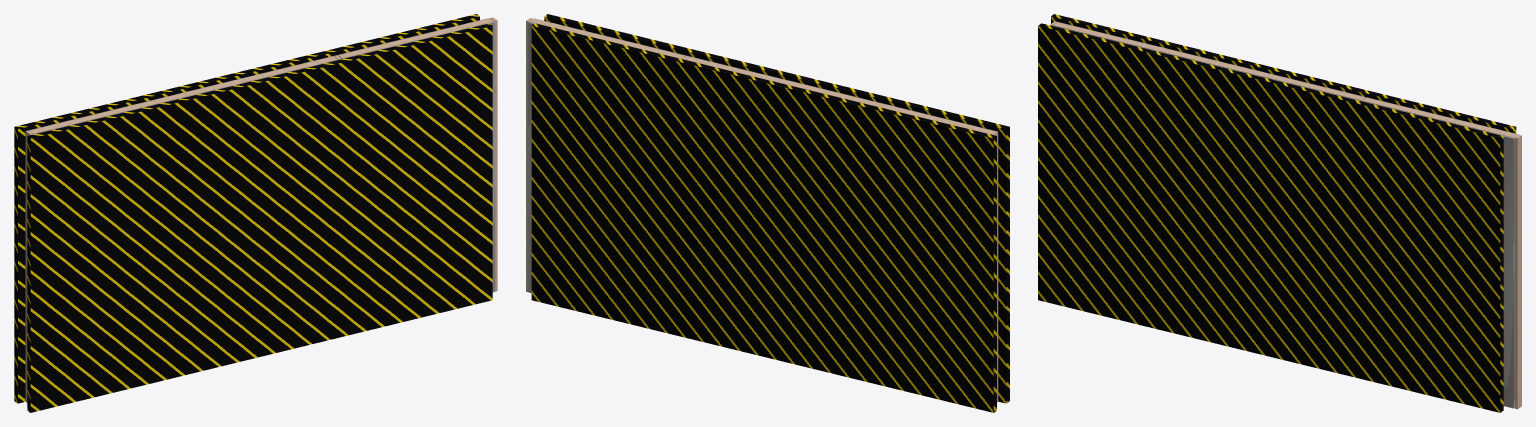
Rendered from WALLSET_E.FBX.
The picture shows the model from 3 angles, left to right: view 1: azimuth 30°, elevation 25°; view 2: azimuth 150°, elevation 25°; view 3: azimuth 330°, elevation 25°; orthographic projection.
Parts seen in each view (by area): view 1: SELECTOR_20, WALL_SET_C05, WALL_SET_C06; view 2: SELECTOR_20, WALL_SET_C05, WALL_SET_C06; view 3: SELECTOR_20, WALL_SET_C06, WALL_SET_C05.
Part boxes in pixels (x1,y1,x2,y2): SELECTOR_20: [14, 14, 492, 412]; WALL_SET_C05: [26, 17, 497, 402]; WALL_SET_C06: [25, 18, 495, 400]; SELECTOR_20: [531, 14, 1009, 412]; WALL_SET_C05: [526, 18, 997, 402]; WALL_SET_C06: [528, 18, 998, 401]; SELECTOR_20: [1038, 14, 1516, 412]; WALL_SET_C06: [1050, 21, 1519, 408]; WALL_SET_C05: [1050, 21, 1521, 409].
Size of the model in its own units: 163 by 90.28 by 9.6.
